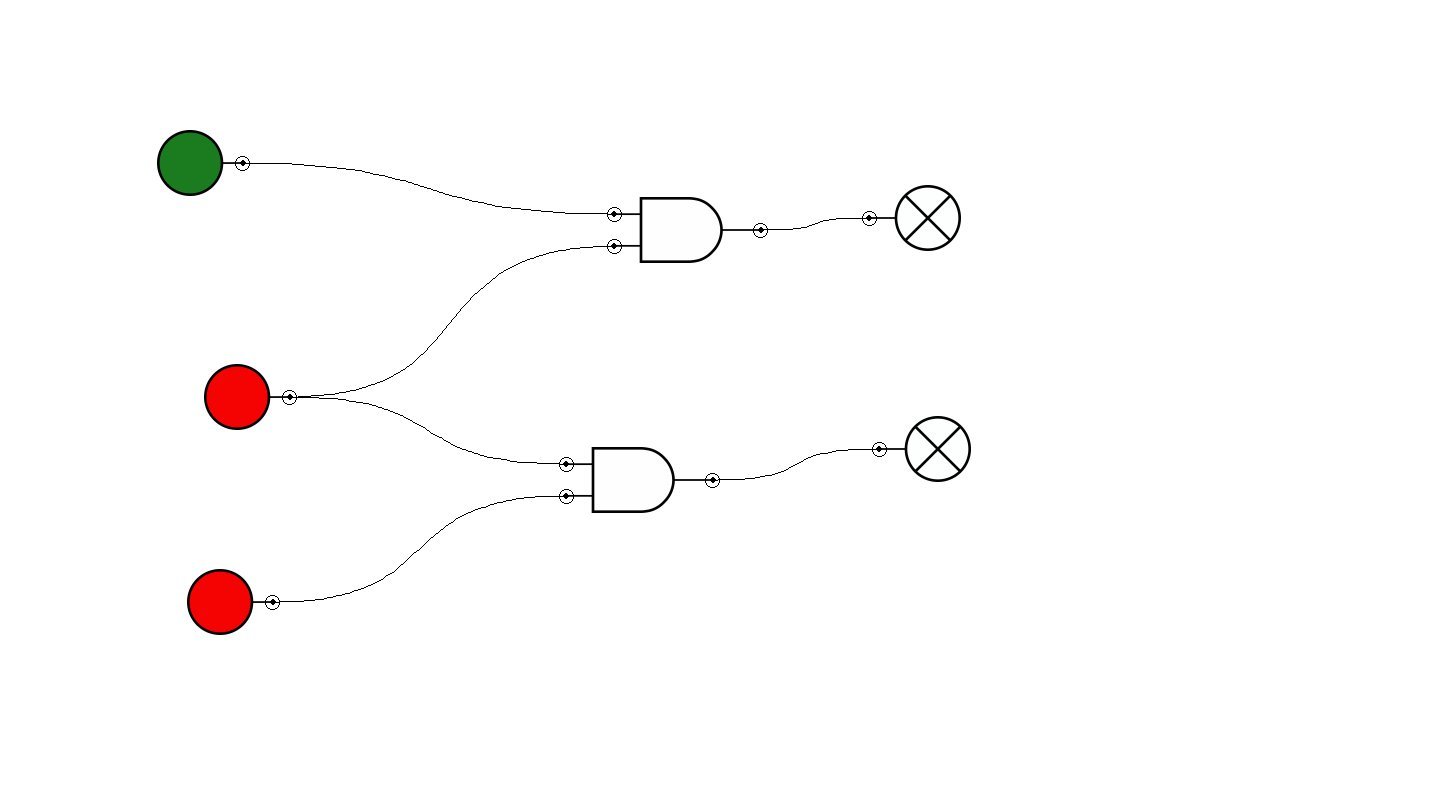and: (559, 447, 720, 513), (607, 197, 768, 263)
bulb: (862, 185, 961, 251), (872, 416, 971, 482)
switch_False: (187, 569, 280, 635), (204, 364, 297, 430)
switch_True: (157, 130, 250, 196)
